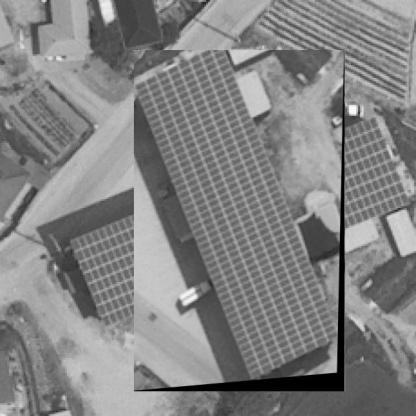solar-pv-panel: (134, 50, 340, 383)
